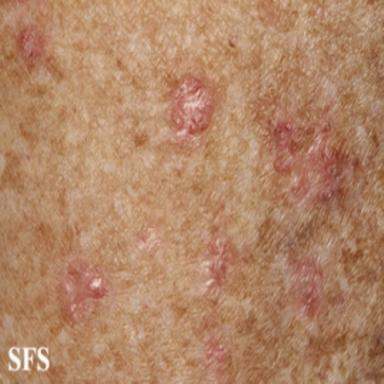Porokeratosis: (257, 105, 362, 213), (60, 255, 109, 324), (283, 251, 324, 319), (171, 74, 215, 137), (199, 226, 235, 299), (201, 325, 232, 384), (17, 25, 47, 68)
